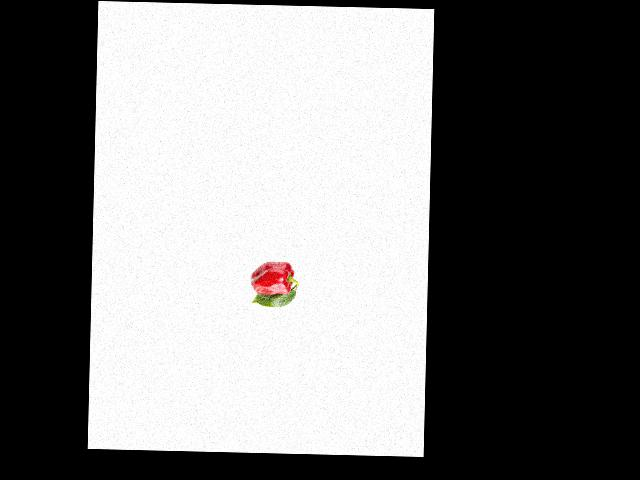bell_pepper: (248, 256, 298, 297)
